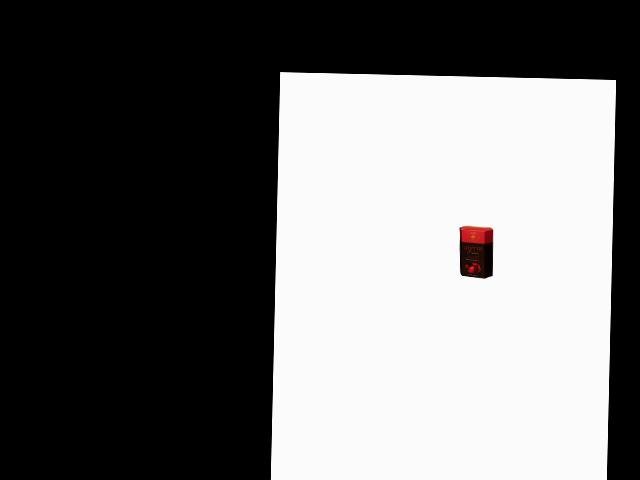chocolate: (457, 224, 495, 283)
